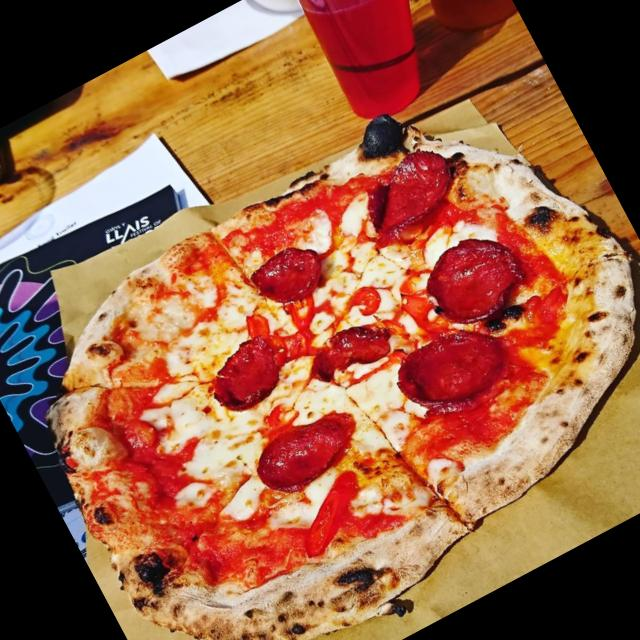pepperoni: (398, 330, 508, 414), (257, 411, 358, 494), (427, 238, 523, 324), (374, 150, 455, 237), (209, 336, 282, 413), (310, 322, 393, 383), (249, 246, 328, 305)
peppers: (284, 468, 382, 558), (336, 280, 384, 324)
pizza: (45, 125, 640, 640)
